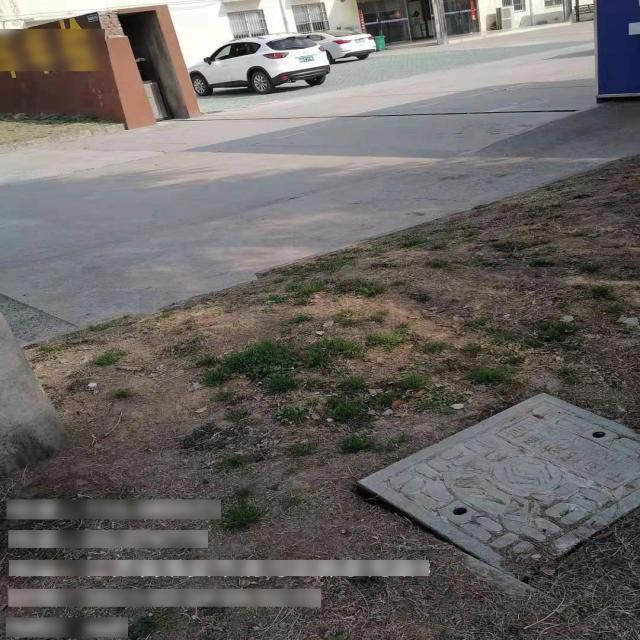Faulty: (350, 392, 640, 580)
